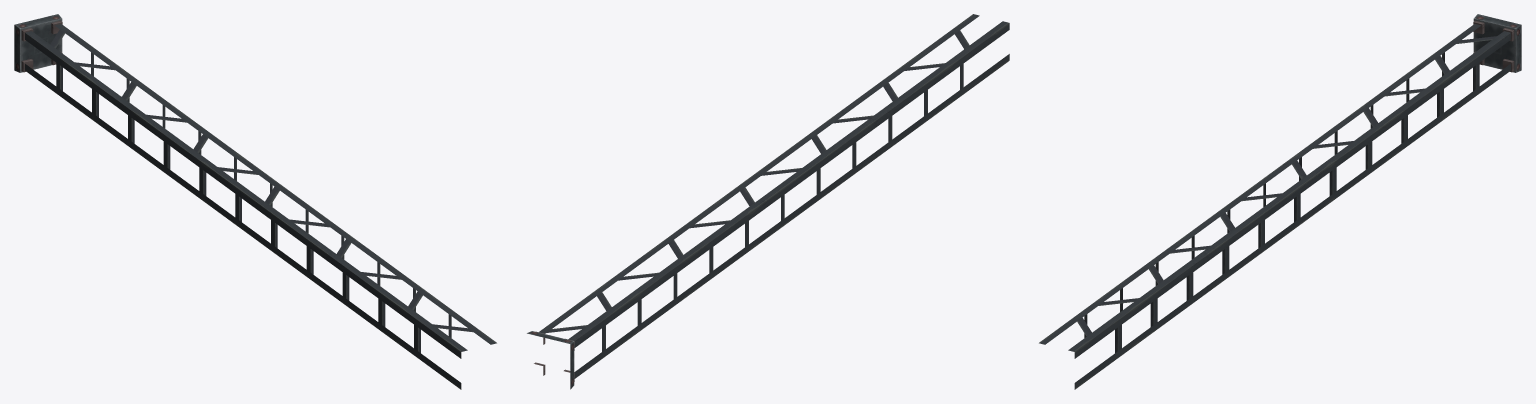
Rendered from lattice_pillar_x1.glb.
The picture shows the model from 3 angles, left to right: view 1: azimuth 30°, elevation 25°; view 2: azimuth 150°, elevation 25°; view 3: azimuth 330°, elevation 25°; orthographic projection.
Parts seen in each view (by area): view 1: pillar.lattice_pillar_x1-Mesh[1], pillar.lattice_pillar_x1-Mesh[0]; view 2: pillar.lattice_pillar_x1-Mesh[1], pillar.lattice_pillar_x1-Mesh[0]; view 3: pillar.lattice_pillar_x1-Mesh[1], pillar.lattice_pillar_x1-Mesh[0].
Part boxes in pixels (box(x1,y1,x2,y2)): pillar.lattice_pillar_x1-Mesh[1]: box(25, 24, 496, 389); pillar.lattice_pillar_x1-Mesh[0]: box(14, 14, 62, 72); pillar.lattice_pillar_x1-Mesh[1]: box(539, 14, 1009, 378); pillar.lattice_pillar_x1-Mesh[0]: box(527, 331, 574, 389); pillar.lattice_pillar_x1-Mesh[1]: box(1039, 24, 1510, 389); pillar.lattice_pillar_x1-Mesh[0]: box(1473, 14, 1521, 72).
Size of the model in its own units: 1.04 by 1.04 by 18.2.
Materials: 3 (3 with a texture image).
